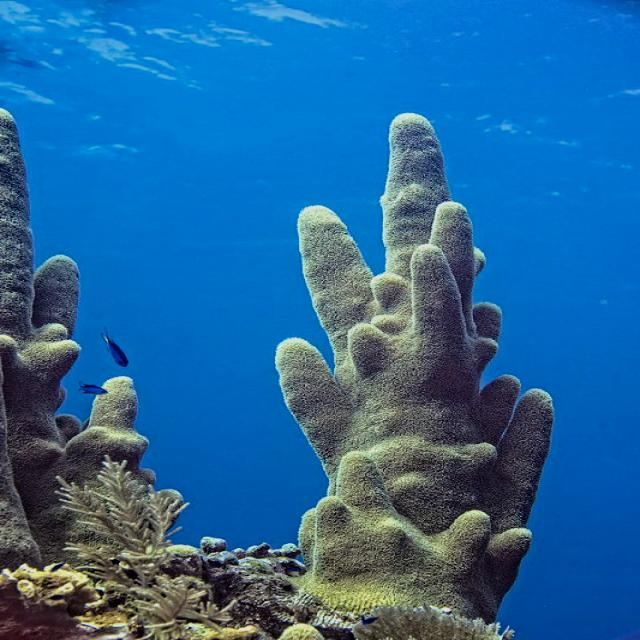Coral: (261, 112, 554, 640), (0, 106, 185, 571)
